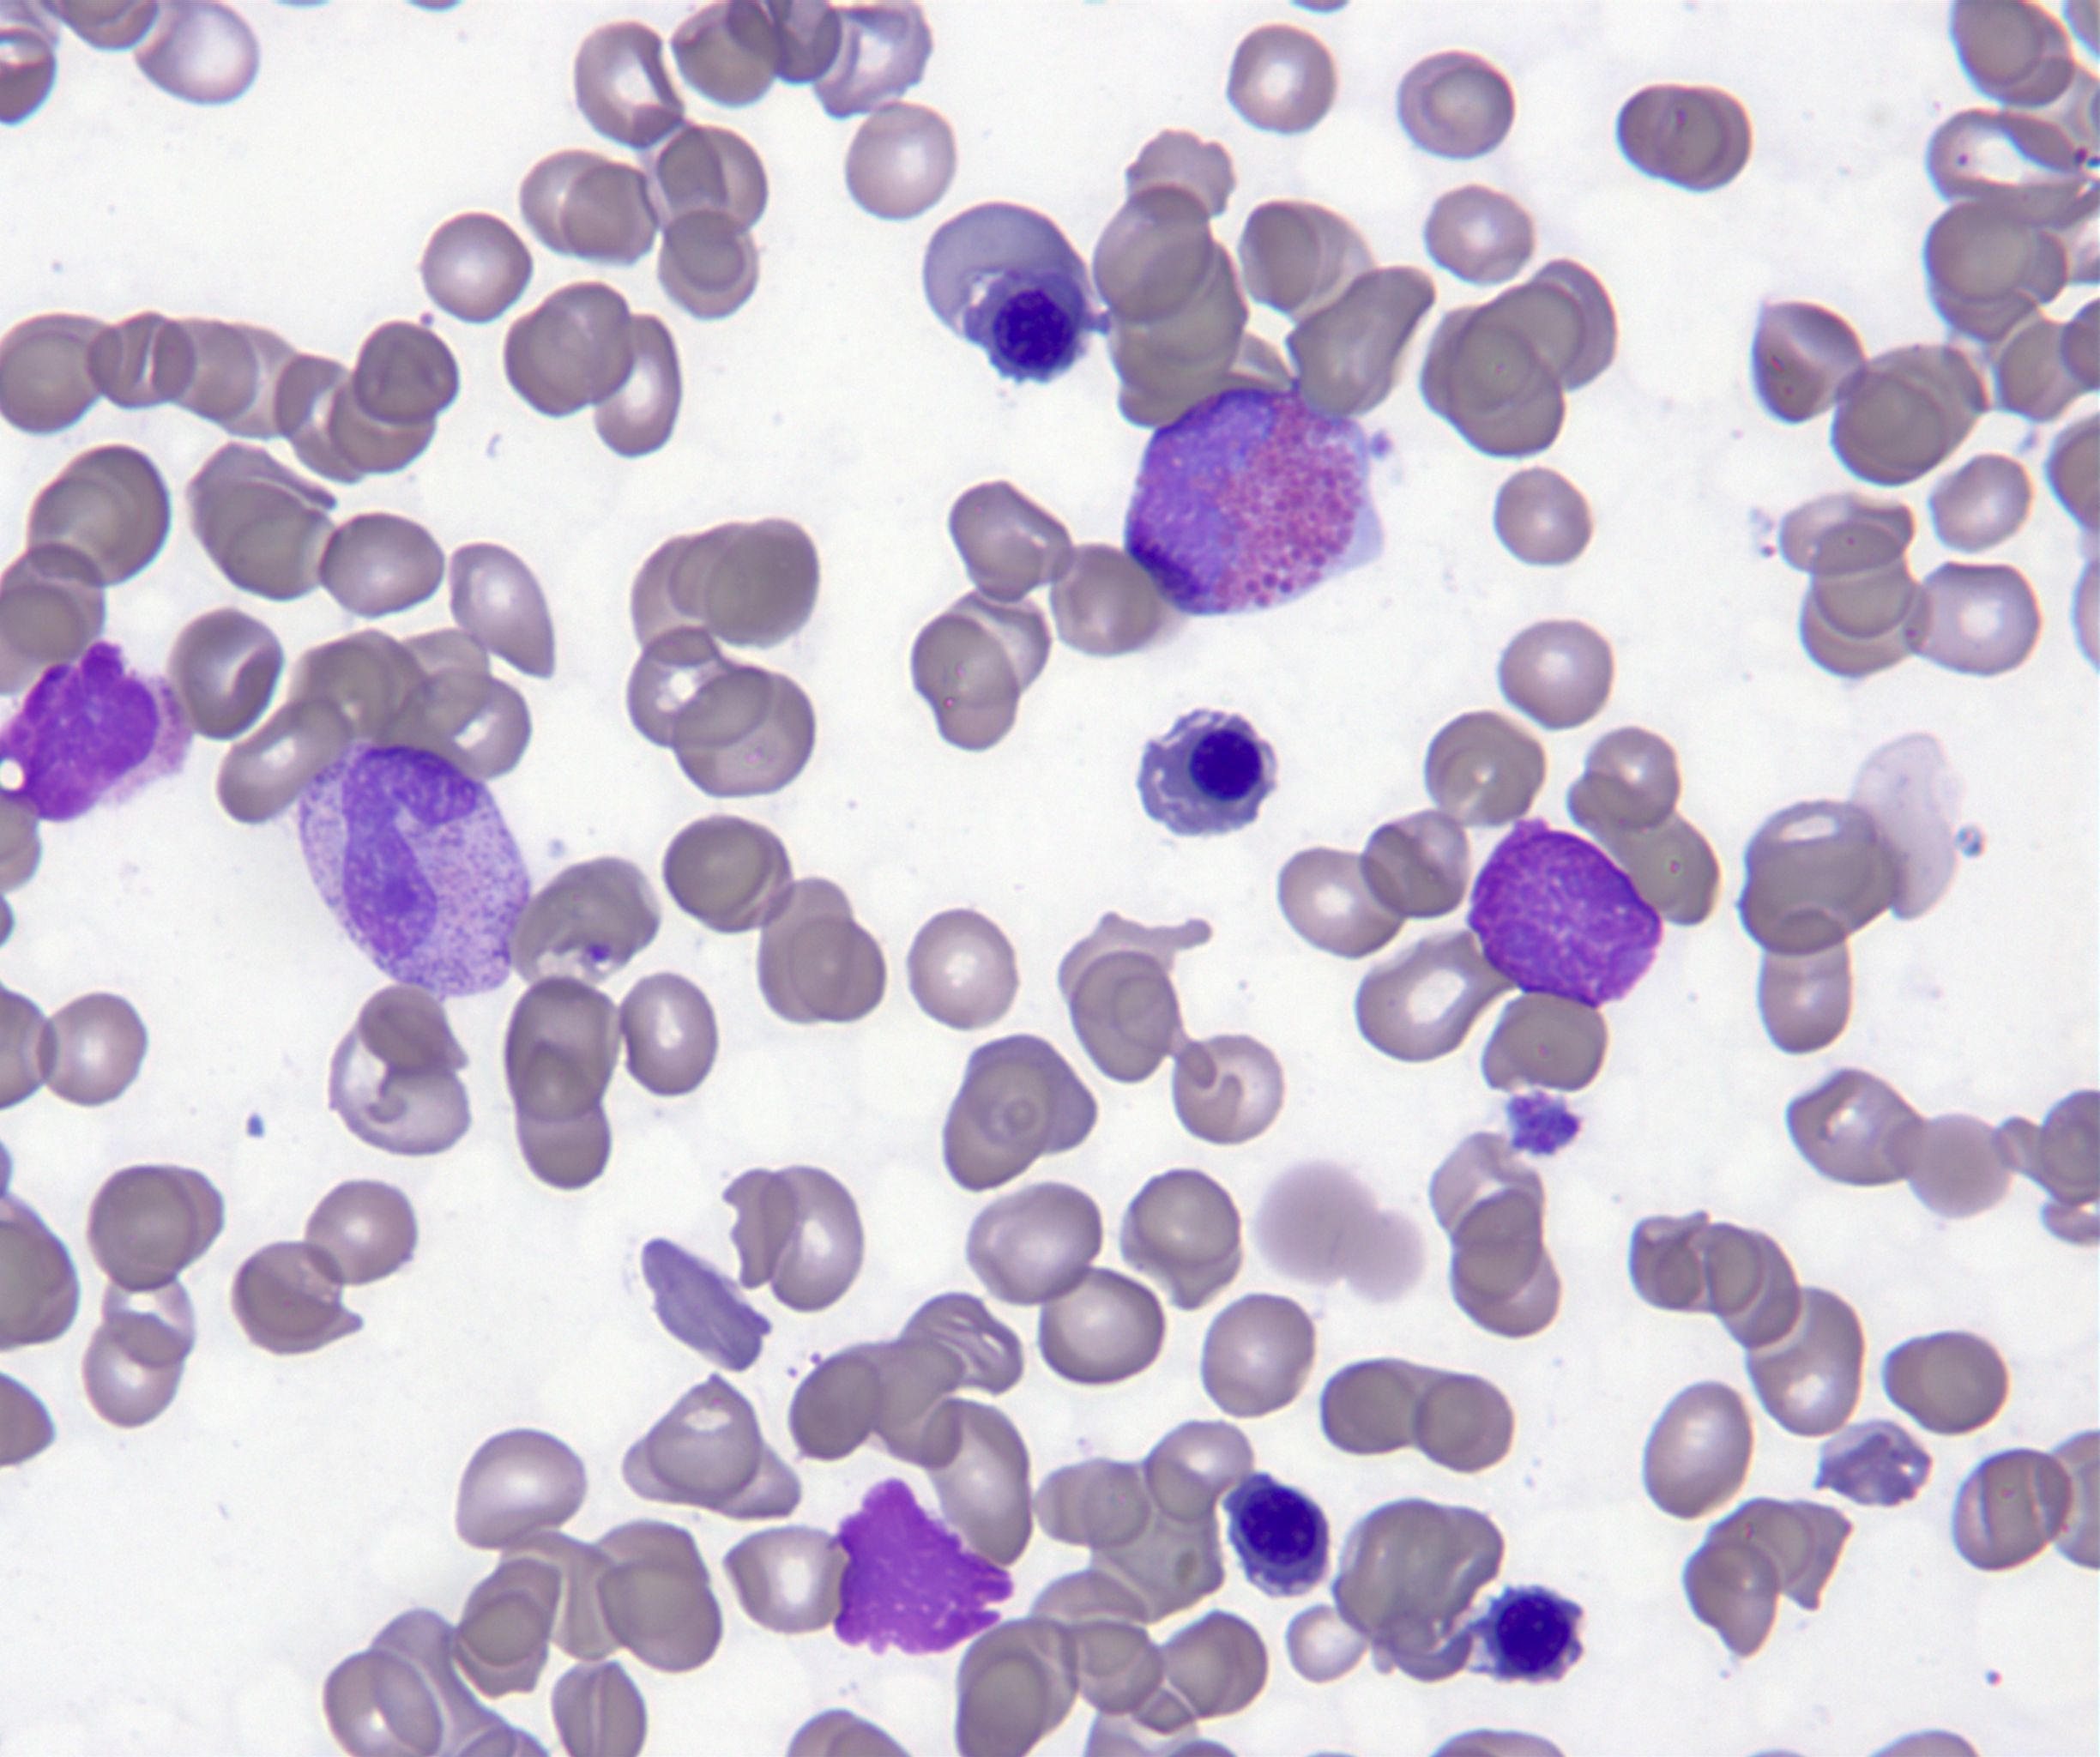23: (961, 262, 1092, 382), (1467, 1586, 1587, 1684)
24: (1137, 707, 1278, 836), (1221, 1471, 1336, 1600)
5: (300, 745, 528, 998)
E3: (1123, 386, 1385, 618)
x: (2, 639, 197, 825), (1470, 817, 1660, 1005), (832, 1478, 1015, 1656)
